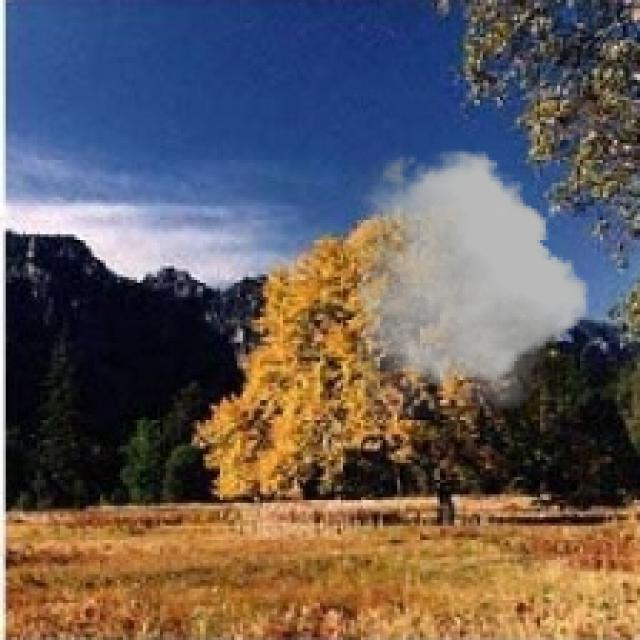smoke: (357, 146, 589, 417)
